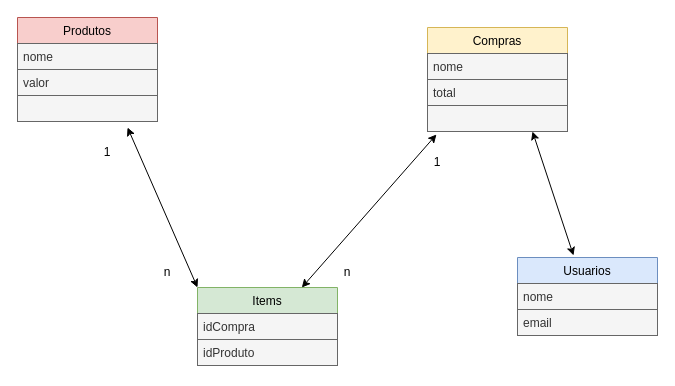
Some shapes in this 675 by 386 pixel diagram are drawn without their labels. Here are the shapes that lost their labels. From the top down, the centre of each, then its label:
At (87,108): "descricao".
At (497,118): "idUsuario".
